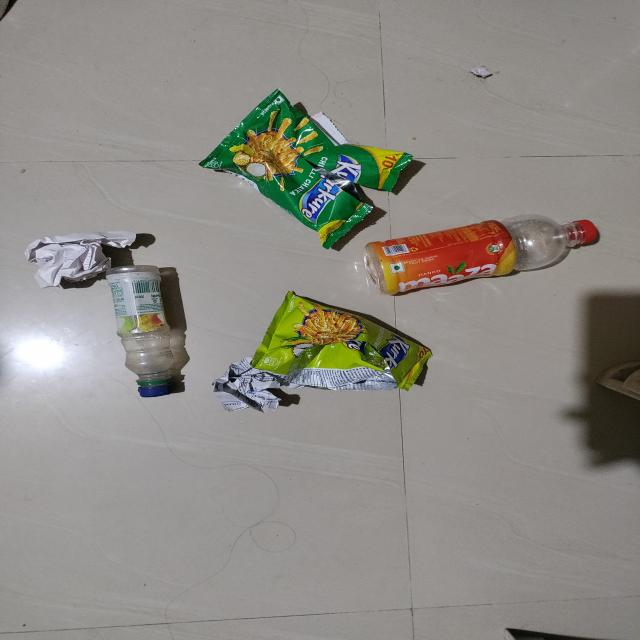dry: (186, 82, 418, 233), (213, 279, 441, 423), (96, 264, 232, 432), (354, 213, 617, 298), (9, 217, 173, 295)
